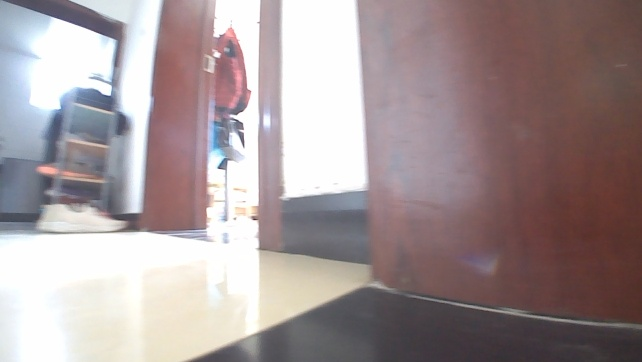shoe: (30, 198, 132, 234)
